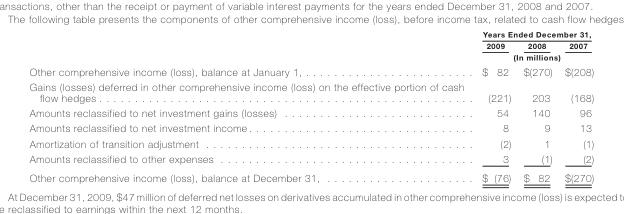table: (28, 29, 593, 182)
table column: (28, 29, 472, 182), (472, 29, 516, 182), (516, 29, 558, 182), (558, 29, 593, 182)
table column header: (28, 29, 593, 63)
table row: (28, 78, 593, 105), (28, 150, 593, 167), (28, 63, 593, 78), (28, 105, 593, 120), (28, 120, 593, 135), (28, 135, 593, 150), (28, 167, 593, 182), (28, 50, 593, 63), (28, 39, 593, 50), (28, 29, 593, 39)
table spanning cell: (472, 50, 593, 63), (472, 29, 593, 39)
